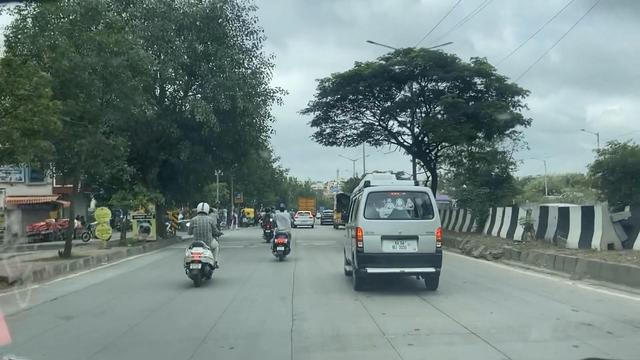LMV: (335, 194, 442, 297), (182, 196, 222, 285), (266, 197, 292, 261)
